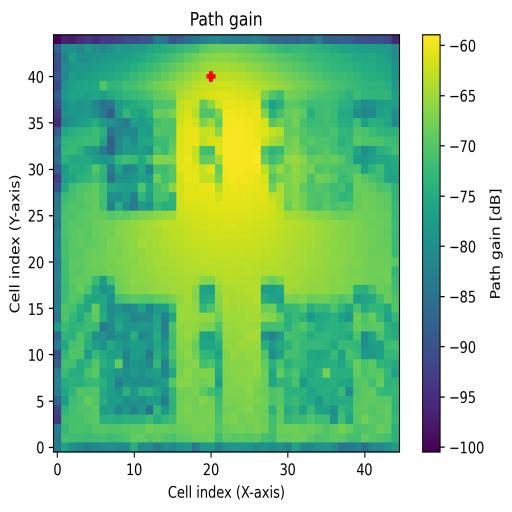Concrete: (284, 92, 354, 210)
Glass: (107, 82, 177, 212)
Metal: (285, 303, 354, 425)
Wood: (100, 303, 177, 424)
